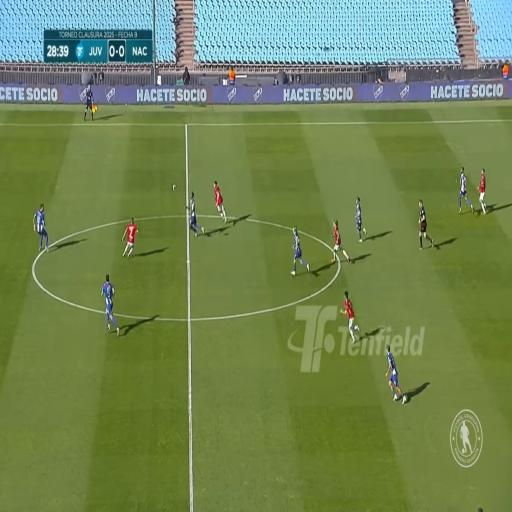Ball: (172, 183, 177, 193)
Player: (100, 270, 120, 335), (384, 343, 407, 398), (332, 215, 348, 270), (343, 286, 358, 343), (186, 190, 204, 236), (353, 190, 368, 245), (291, 220, 305, 274), (120, 218, 138, 258), (213, 180, 229, 225), (476, 162, 489, 216), (457, 164, 472, 209), (34, 201, 46, 252)
Referee: (419, 195, 429, 252), (84, 80, 94, 122)
